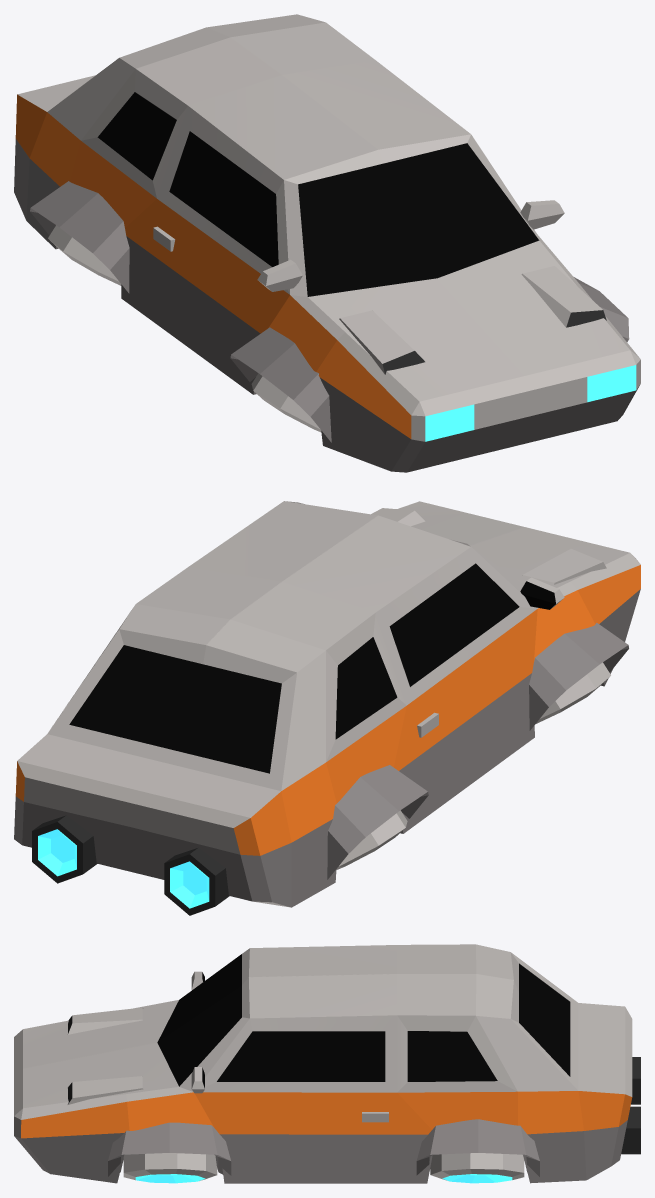
The model's file is scifi_scifi-car-hoover.fbx.
3 renders of one model, top to bottom at view 1: azimuth 30°, elevation 25°; view 2: azimuth 150°, elevation 25°; view 3: azimuth 270°, elevation 25°, orthographic. The views are drawn at different scales.
Parts seen in each view (by area): view 1: scifi_scifi_car_hoover; view 2: scifi_scifi_car_hoover; view 3: scifi_scifi_car_hoover.
Part boxes in pixels (x1,y1,x2,y2): scifi_scifi_car_hoover: (14, 14, 640, 472); scifi_scifi_car_hoover: (14, 501, 640, 915); scifi_scifi_car_hoover: (14, 944, 640, 1183).
Size of the model in its own units: 97.2 by 63.16 by 200.
Materials: 6 (1 with a texture image).
